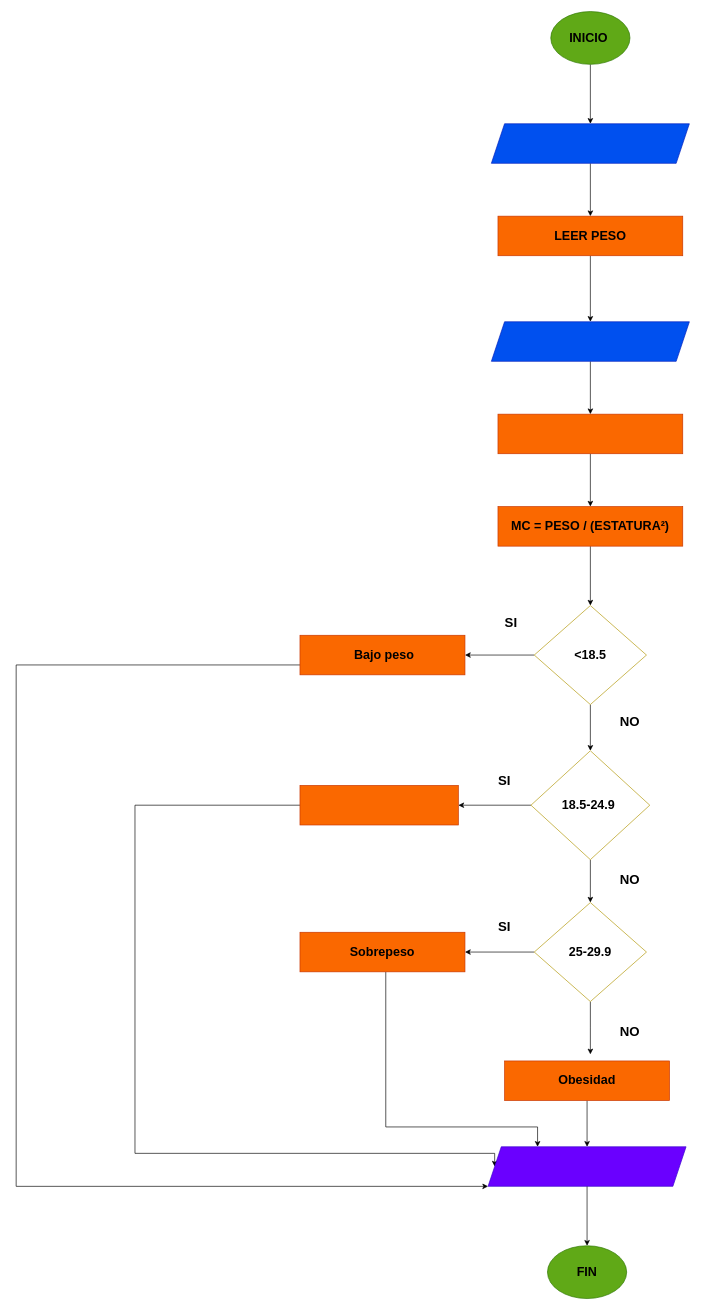
This 701x1310 diagram has some shape labels left out. The shapes that lost their labels are listed below. From the top down, each one's box as (x1, y1, x2, y2) in pixels, then its label:
(491, 123, 689, 163): DIGITE SU PESO
(491, 321, 689, 361): DIGITE SU ESTATURA
(497, 413, 683, 454): LEER ESTATURA
(299, 785, 458, 825): Normal
(487, 1146, 686, 1186): ESCRIBIR "SU IMC ES:" IMC
